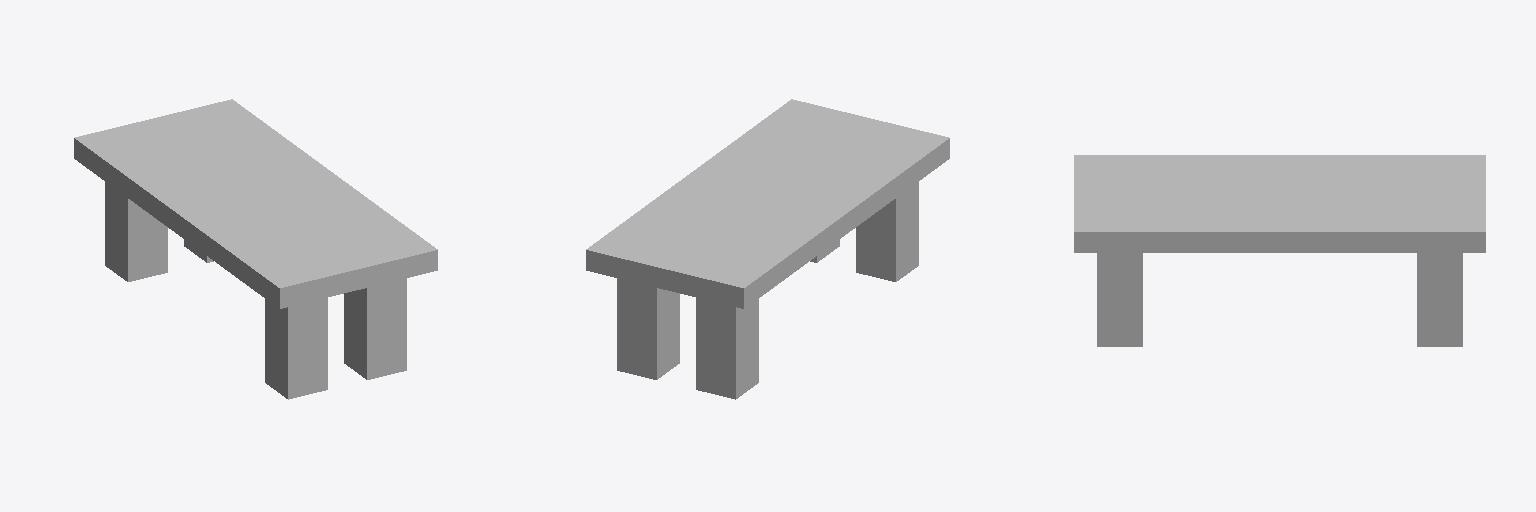
File: table.vox.obj
3 views of the same model, side by side, from view 1: azimuth 30°, elevation 25°; view 2: azimuth 150°, elevation 25°; view 3: azimuth 270°, elevation 25° (orthographic).
Parts seen in each view (by area): view 1: object 1; view 2: object 1; view 3: object 1.
Boxes of the visible parts, box(x1,y1,x2,y2) form: object 1: box(74, 99, 437, 399); object 1: box(586, 99, 949, 399); object 1: box(1074, 155, 1485, 346).
Size of the model in its own units: 0.8 by 0.6 by 1.8.